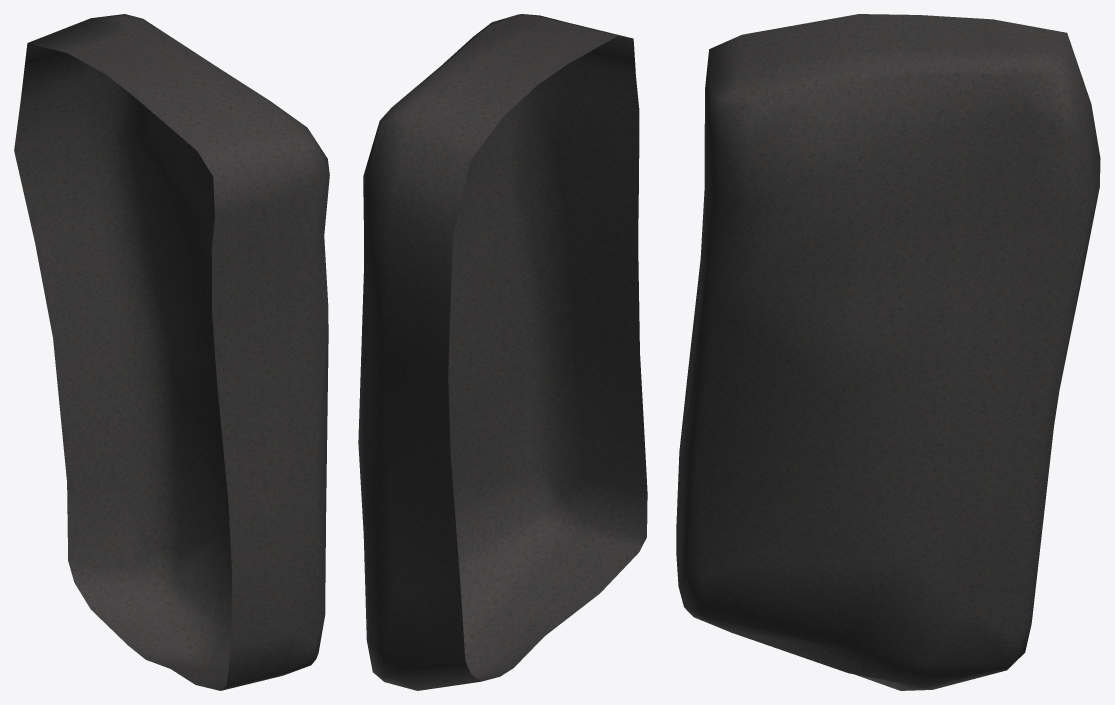
The model's file is PieceOfStone3.fbx.
3 views of the same model, side by side, from view 1: azimuth 30°, elevation 25°; view 2: azimuth 150°, elevation 25°; view 3: azimuth 270°, elevation 25° (orthographic). The views are drawn at different scales.
Parts seen in each view (by area): view 1: PieceOfStone3; view 2: PieceOfStone3; view 3: PieceOfStone3.
Part boxes in pixels (box(x1,y1,x2,y2)): PieceOfStone3: box(14, 14, 329, 690); PieceOfStone3: box(358, 14, 647, 690); PieceOfStone3: box(676, 14, 1100, 690).
Size of the model in its own units: 167 by 623 by 381.
1 material, 1 textured.
